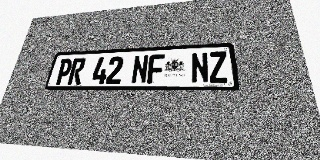2: (106, 56, 124, 84)
4: (91, 57, 110, 84)
F: (147, 54, 165, 84)
N: (191, 52, 209, 83), (131, 55, 149, 84)
P: (54, 58, 73, 85)
R: (67, 58, 86, 85)
Z: (208, 51, 229, 83)
